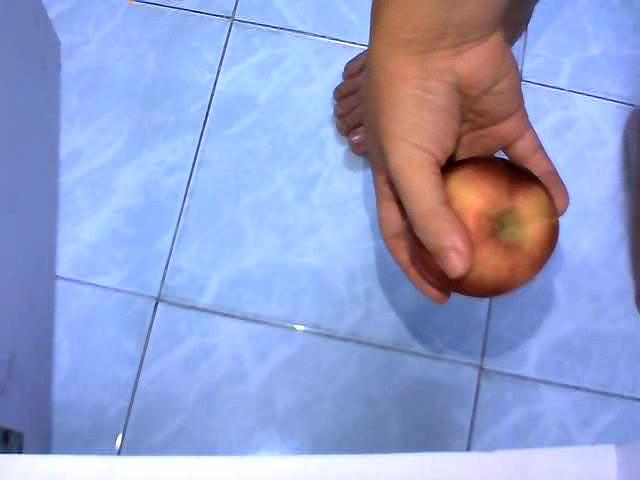apple: (433, 159, 559, 296)
